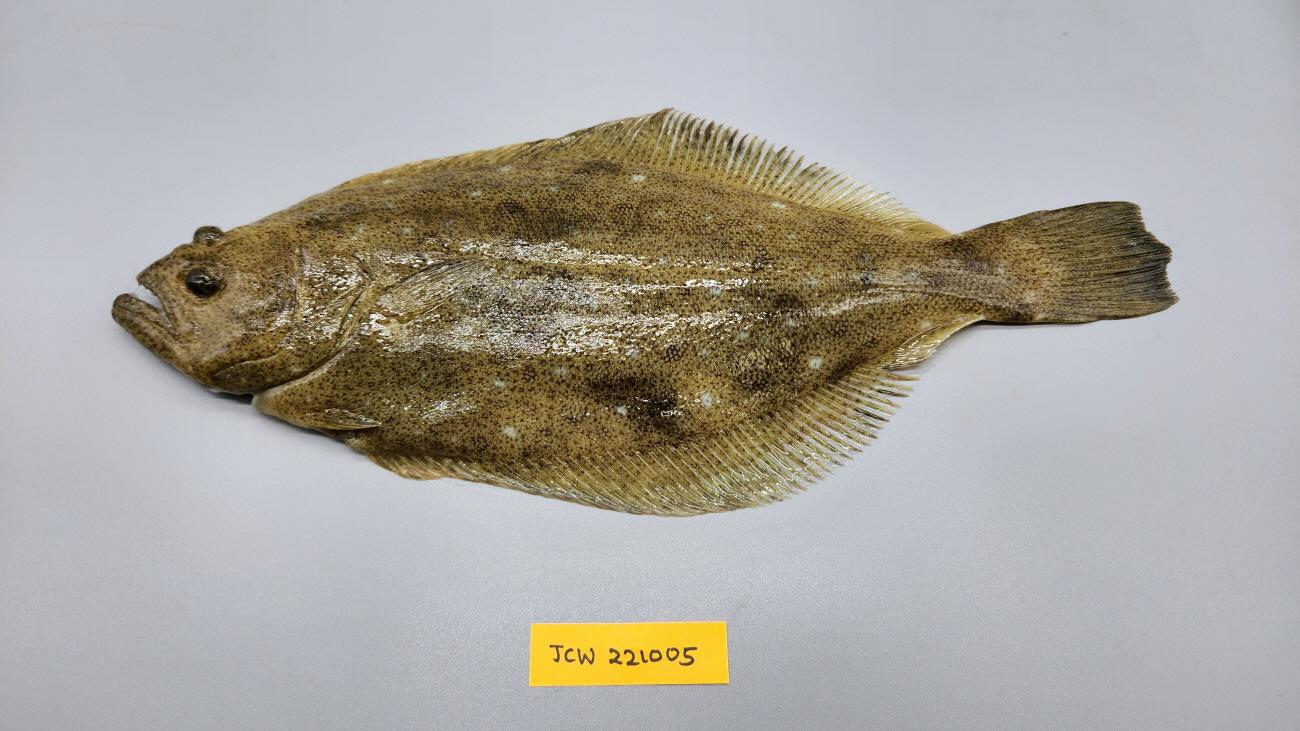POOUN: (108, 110, 1178, 516)
